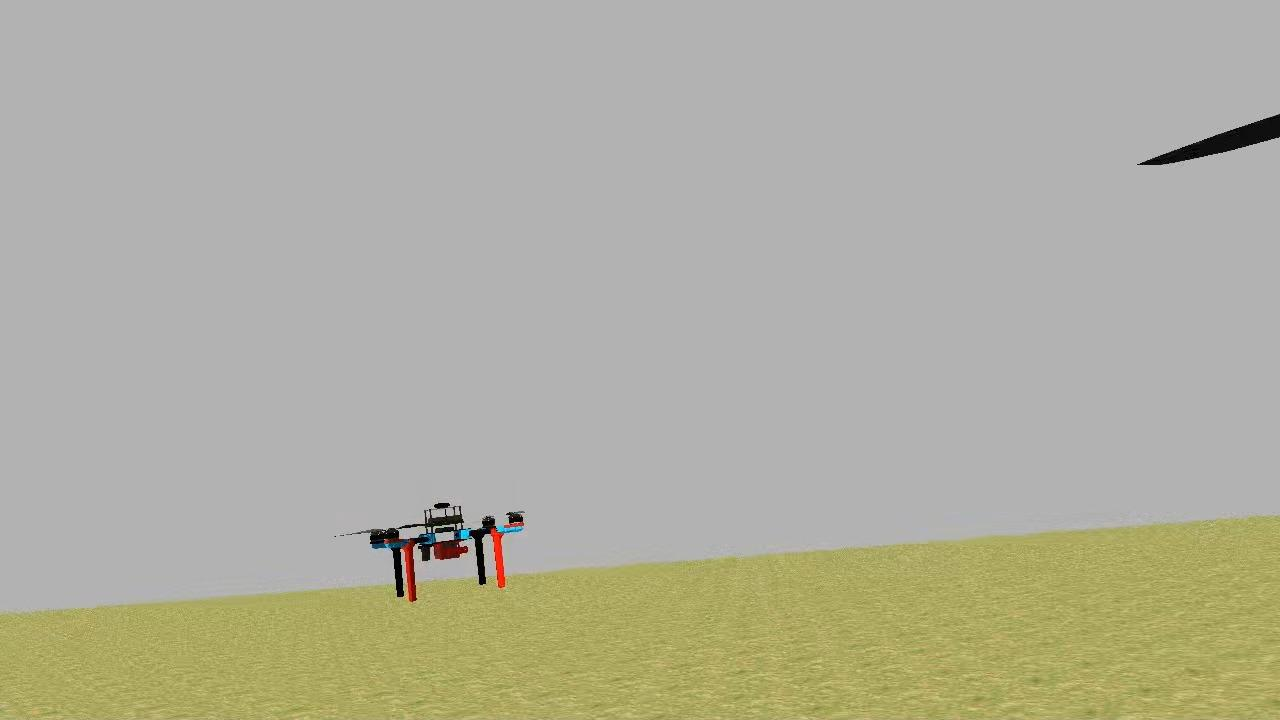UAV: (364, 494, 534, 601)
